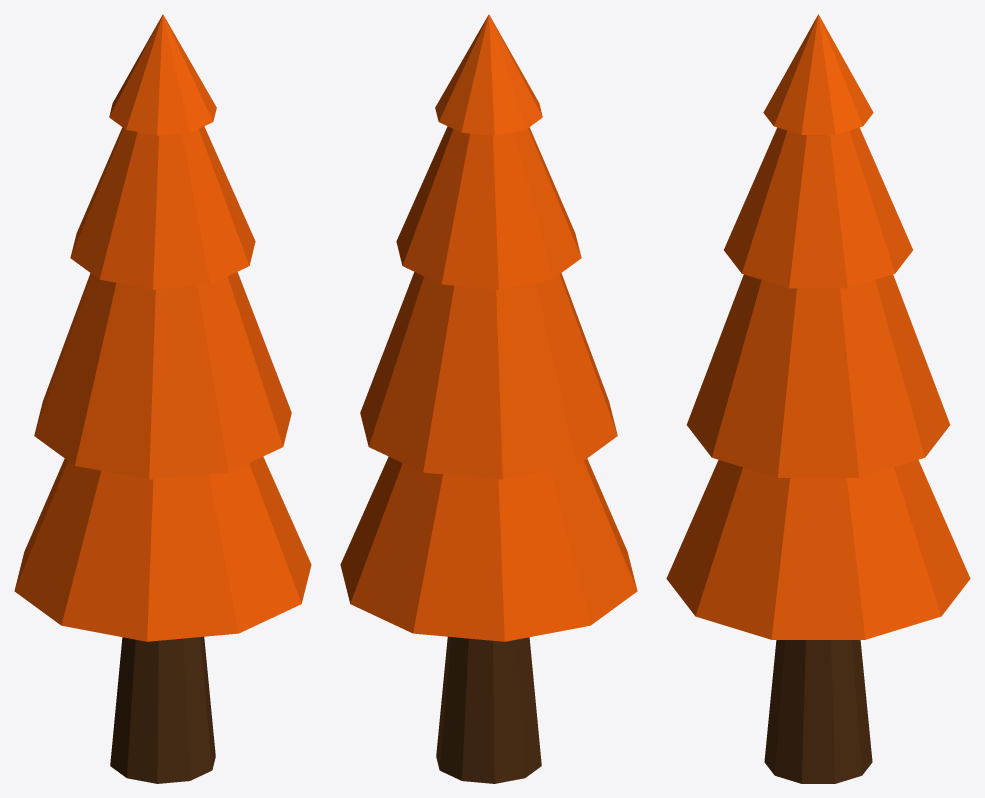
The model's file is Tall_Pine_002.fbx.
3 renders of one model, left to right at view 1: azimuth 30°, elevation 25°; view 2: azimuth 150°, elevation 25°; view 3: azimuth 270°, elevation 25°, orthographic.
Visible parts, largest first — view 1: Tall Pine.002; view 2: Tall Pine.002; view 3: Tall Pine.002.
Boxes of the visible parts, x1=… form: Tall Pine.002: x1=14, y1=14, x2=311, y2=783; Tall Pine.002: x1=340, y1=14, x2=637, y2=783; Tall Pine.002: x1=666, y1=14, x2=970, y2=783.
Bounding box in the file's own units: 165 × 471 × 173.
